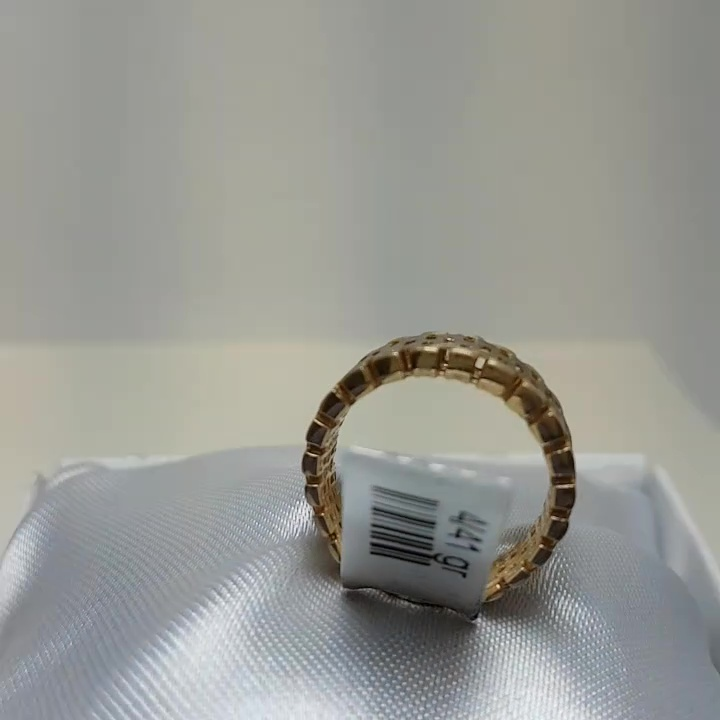Ring 1: (282, 302, 590, 623)
